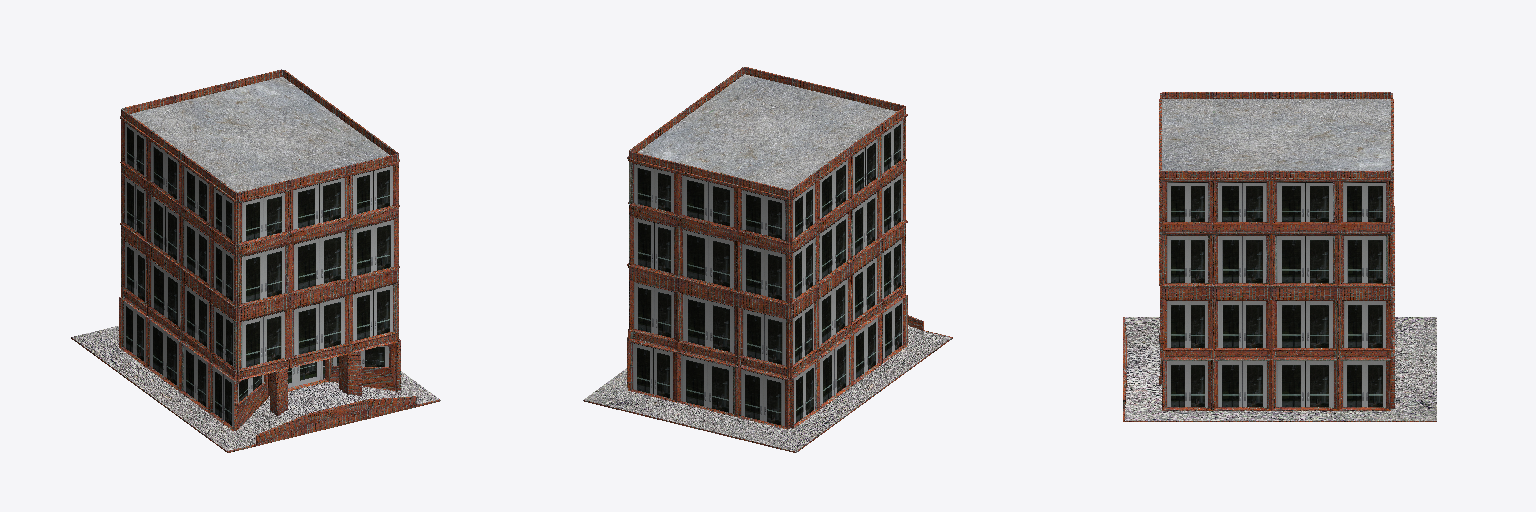
The picture shows the model from 3 angles: view 1: azimuth 30°, elevation 25°; view 2: azimuth 150°, elevation 25°; view 3: azimuth 270°, elevation 25°; orthographic projection.
Parts seen in each view (by area): view 1: Cube.002; view 2: Cube.002; view 3: Cube.002.
Boxes of the visible parts, box(x1,y1,x2,y2) form: Cube.002: box(71, 69, 440, 452); Cube.002: box(583, 67, 952, 452); Cube.002: box(1123, 92, 1436, 421).
Size of the model in its own units: 15.12 by 17.01 by 19.28.
6 materials, 1 textured.